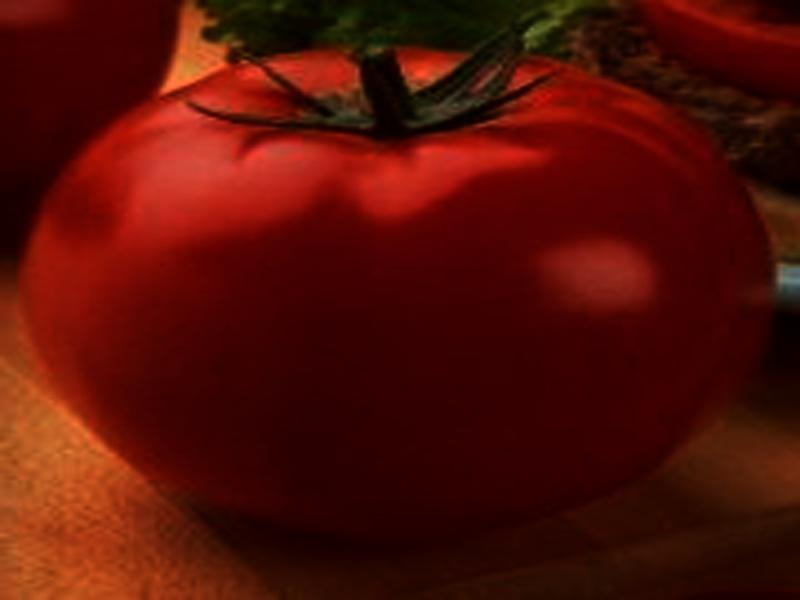Tomato: (21, 47, 772, 533)
